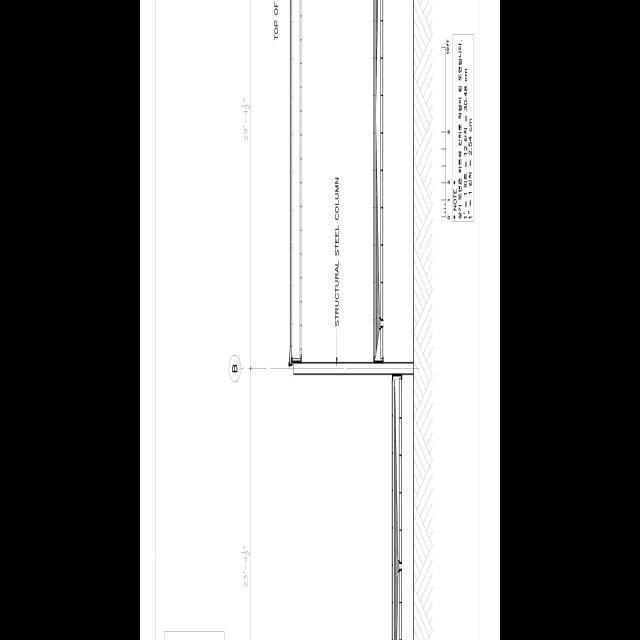background: (140, 0, 500, 640)
space_other: (299, 0, 374, 363)
